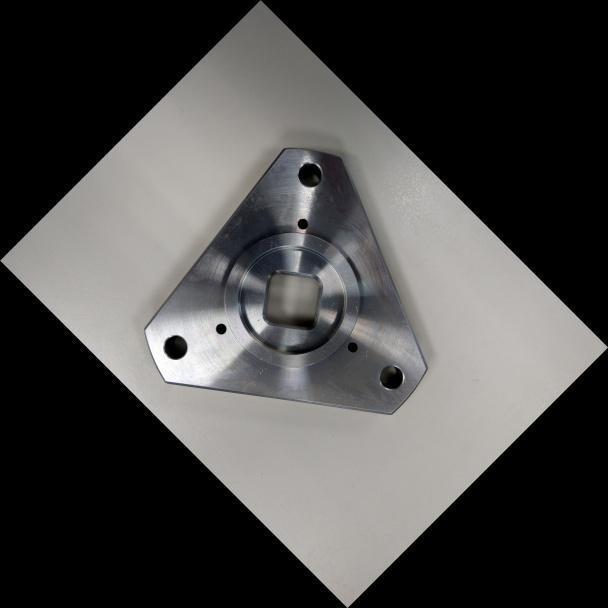hole: (288, 154, 331, 196), (370, 356, 412, 398), (153, 326, 195, 368), (291, 212, 313, 234), (342, 337, 362, 356), (211, 319, 230, 338)
